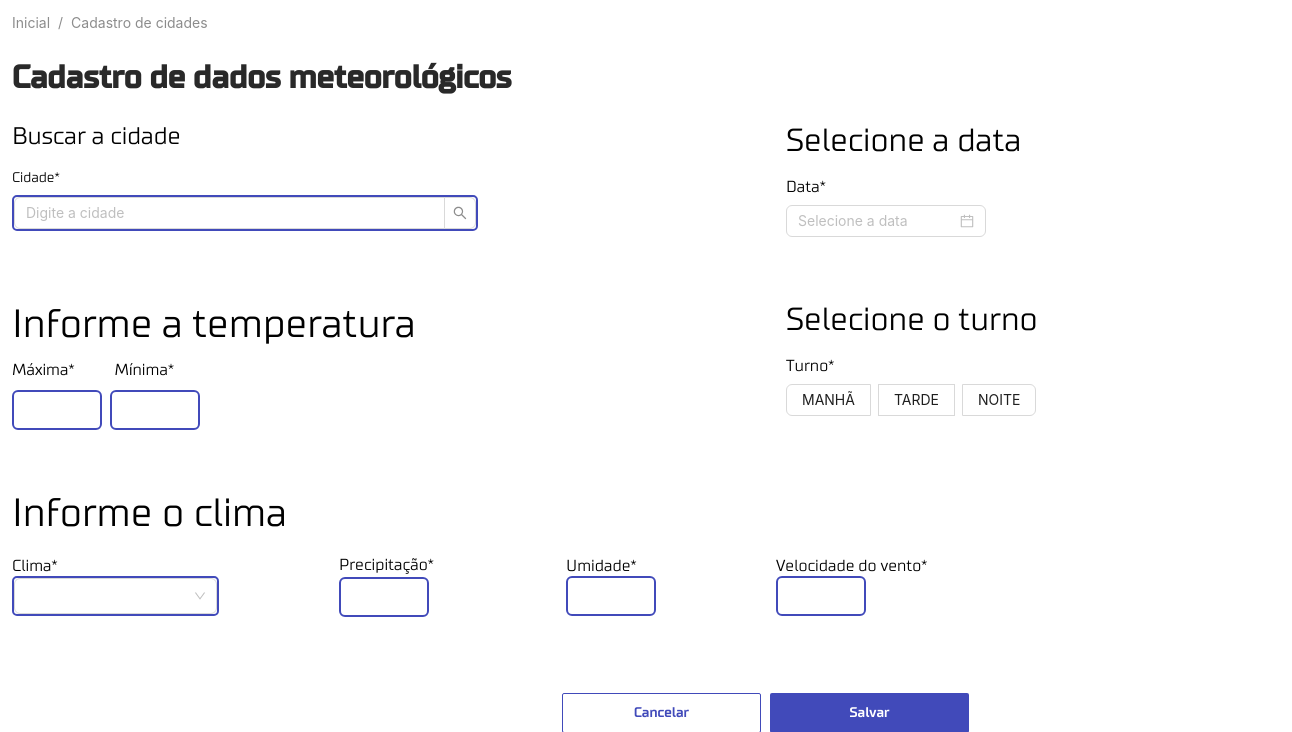
Test: CadastroCidadePage › Componente de informação do clima › Deve preencher a umidade corretamente
Type "60" into the number field with test id "input_umidade".
click(611, 593); type("60")  # box [568,578,654,608]
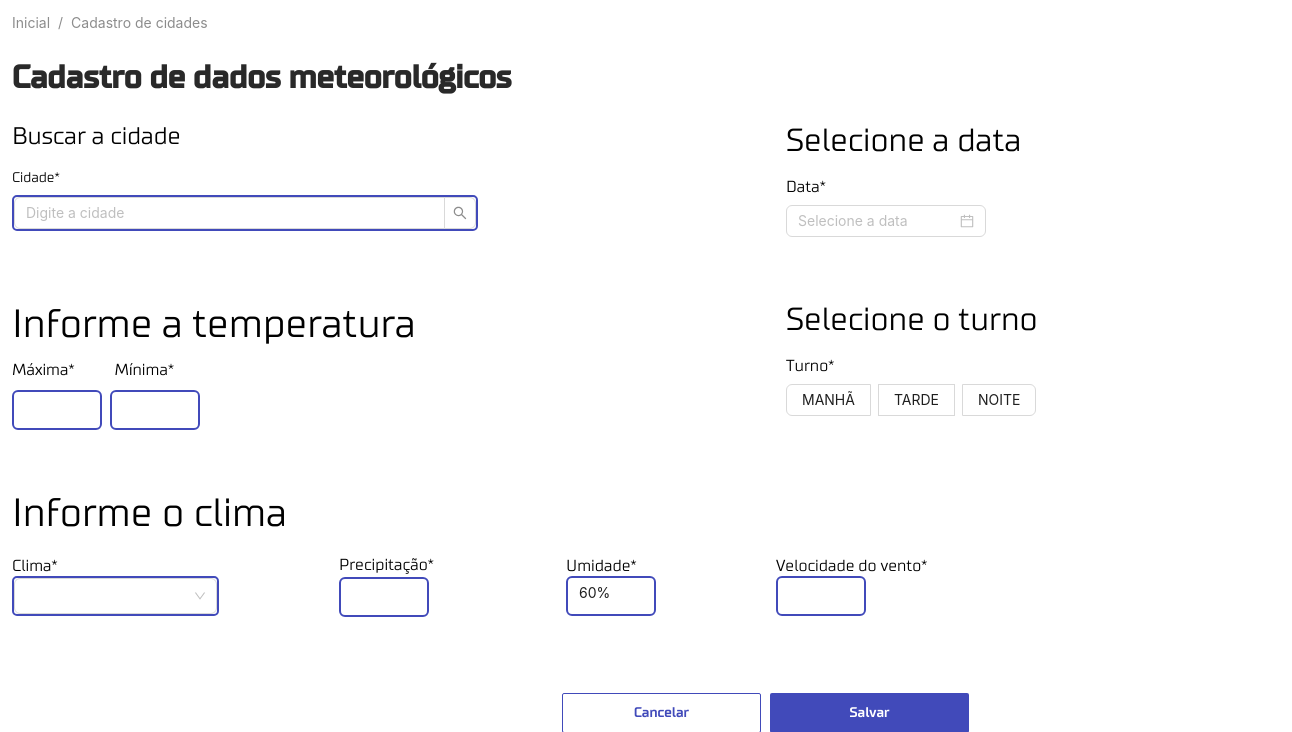
Expected: the number field with test id "input_umidade" holds "60%", [568,578,654,608]
